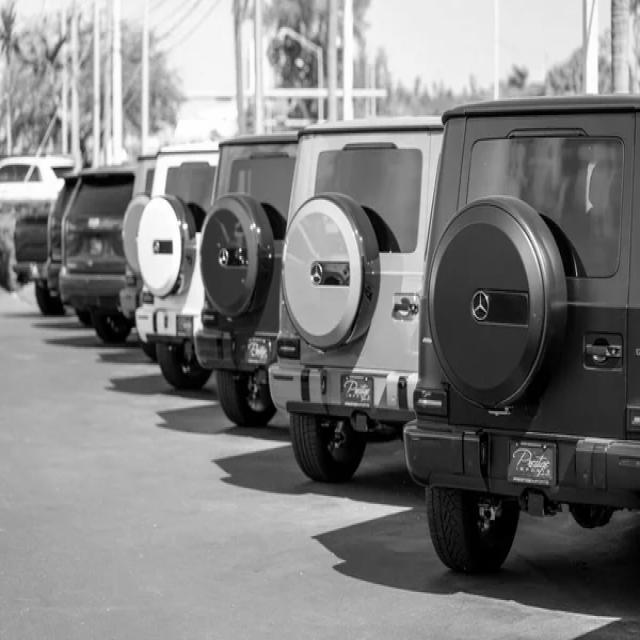Car: (405, 96, 640, 574), (270, 117, 444, 482), (195, 133, 299, 427), (134, 142, 219, 388), (60, 167, 135, 342)
